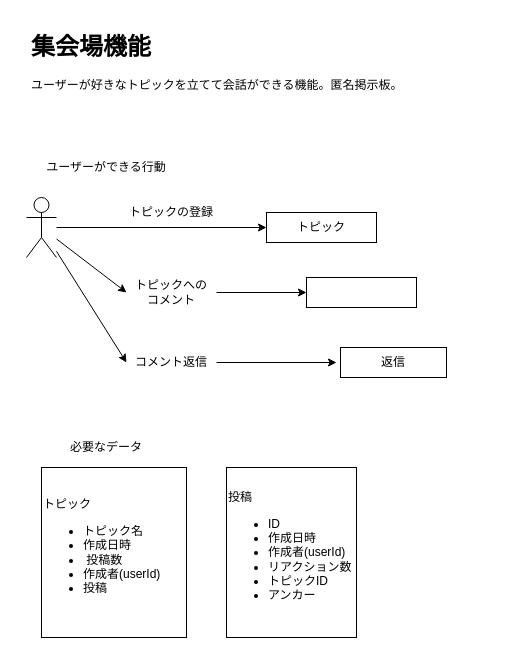
The diagram is 524 pixels wide and 655 high, and some of its shapes have lost their labels. Each missing label, with the centre of its shape:
"コメント" belongs at point 361,292.
"ユーザー" belongs at point 41,227.
